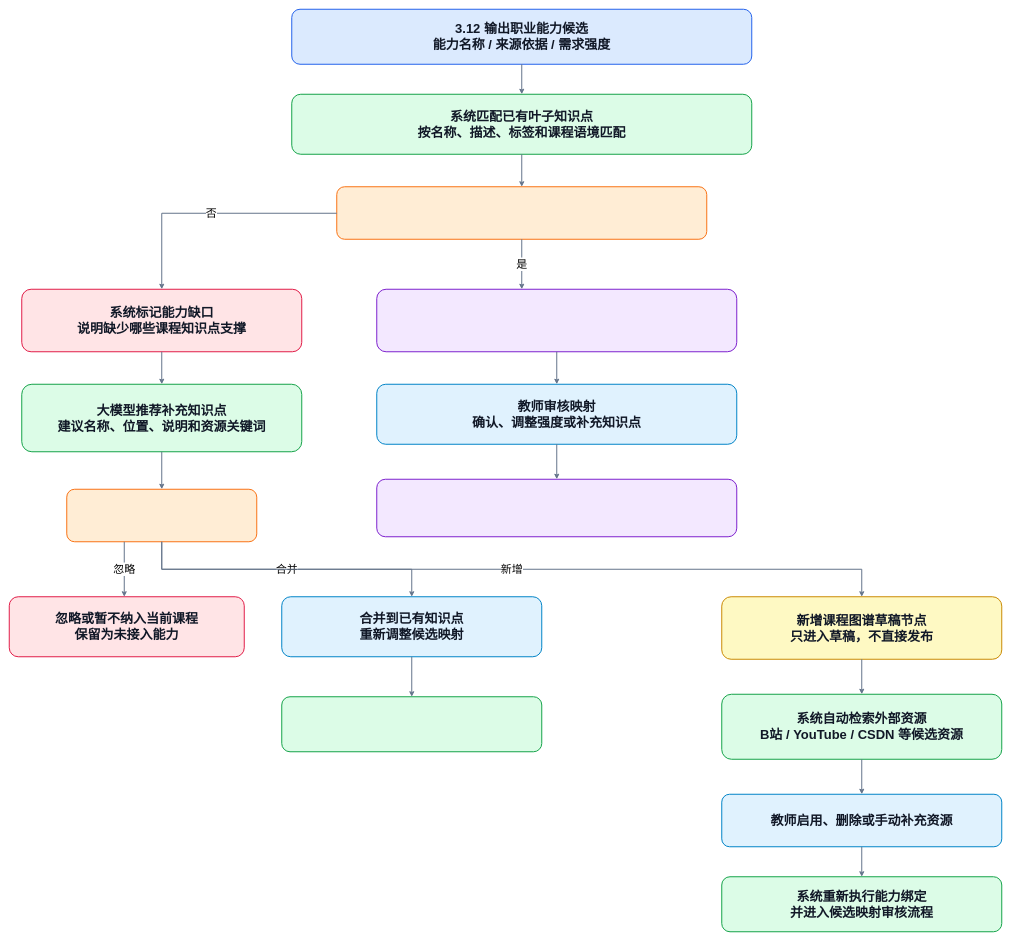
The diagram is 1011 pixels wide and 941 high, and some of its shapes have lost their labels. Each missing label, with the box of its shape:
教师决定处理方式: (66, 488, 257, 542)
教师确认后发布新课程底座 学生端和下游模块读取发布版: (376, 478, 737, 537)
是否匹配到足够支撑知识点？: (336, 186, 707, 240)
生成或重算能力-知识点候选映射 支撑强度：高 / 中 / 低: (376, 288, 737, 352)
进入候选映射审核流程 不直接发布: (281, 696, 542, 752)
